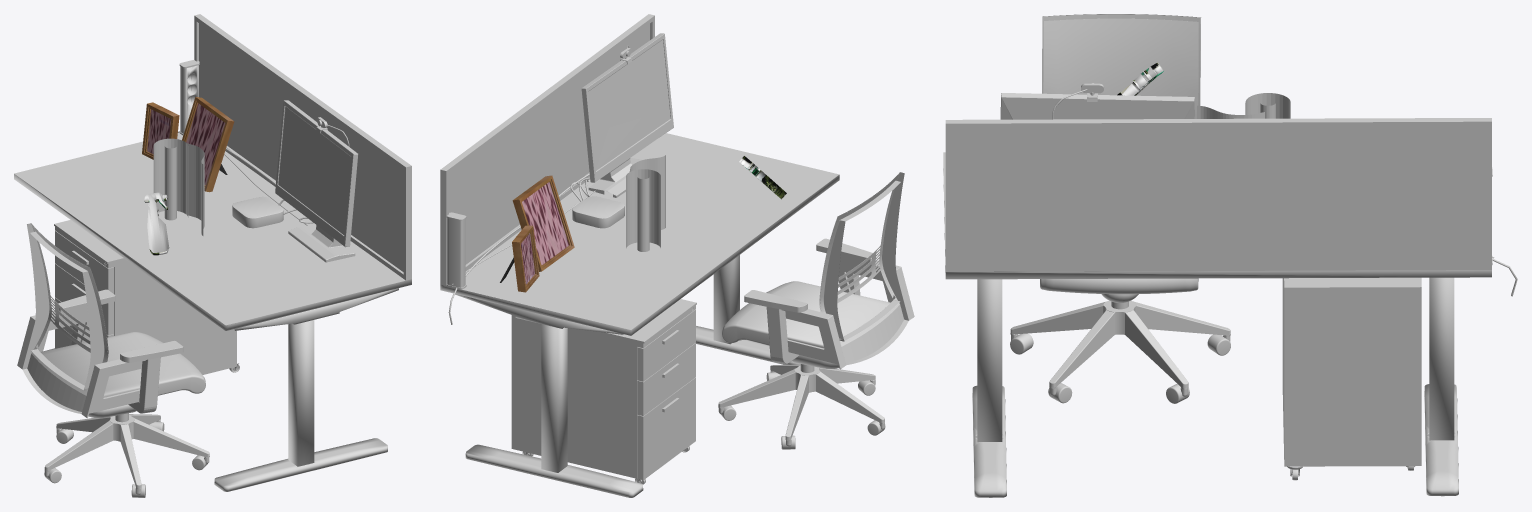
The picture shows the model from 3 angles, left to right: view 1: azimuth 30°, elevation 25°; view 2: azimuth 150°, elevation 25°; view 3: azimuth 270°, elevation 25°; orthographic projection. The views are drawn at different scales.
Visible parts, largest first — view 1: Set3_1, Set3_3, Set3_2, Set3_4; view 2: Set3_1, Set3_3, Set3_4, Set3_2; view 3: Set3_1, Set3_3, Set3_2.
Part boxes in pixels (x1,y1,x2,y2): Set3_1: (14,14,411,497); Set3_3: (54,220,239,374); Set3_2: (144,138,204,255); Set3_4: (142,97,234,192); Set3_1: (440,14,914,497); Set3_3: (511,299,696,484); Set3_4: (500,175,574,292); Set3_2: (626,155,786,251); Set3_1: (943,14,1517,497); Set3_3: (1282,277,1421,480); Set3_2: (1117,62,1290,118).
Size of the model in its own units: 1.27 by 1.25 by 1.62.
Materials: 5 (3 with a texture image).
